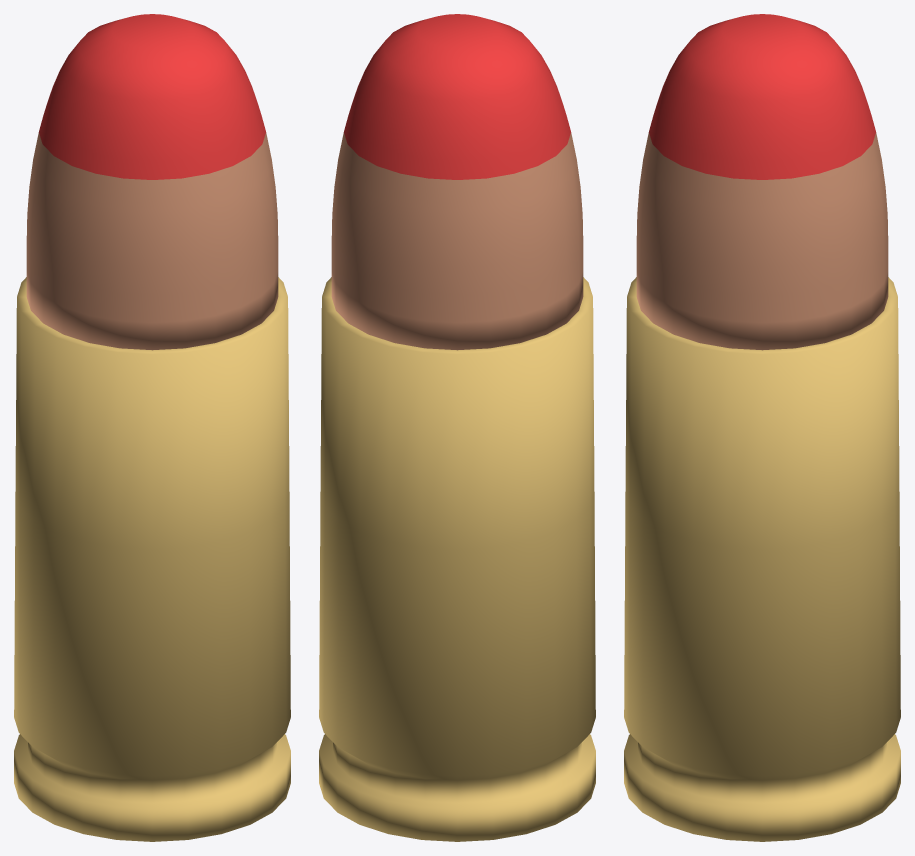
The picture shows the model from 3 angles, left to right: view 1: azimuth 30°, elevation 25°; view 2: azimuth 150°, elevation 25°; view 3: azimuth 270°, elevation 25°; orthographic projection.
Parts seen in each view (by area): view 1: vaina, bala_cuerpo, punta; view 2: vaina, bala_cuerpo, punta; view 3: vaina, bala_cuerpo, punta.
Boxes of the visible parts, x1=… form: vaina: x1=14, y1=277, x2=290, y2=841; bala_cuerpo: x1=26, y1=132, x2=278, y2=350; punta: x1=39, y1=14, x2=265, y2=179; vaina: x1=319, y1=277, x2=595, y2=841; bala_cuerpo: x1=331, y1=132, x2=583, y2=350; punta: x1=344, y1=14, x2=570, y2=179; vaina: x1=624, y1=277, x2=900, y2=841; bala_cuerpo: x1=636, y1=132, x2=888, y2=350; punta: x1=649, y1=14, x2=875, y2=179.
Bounding box in the file's own units: 0.0099 × 0.0297 × 0.0099.
